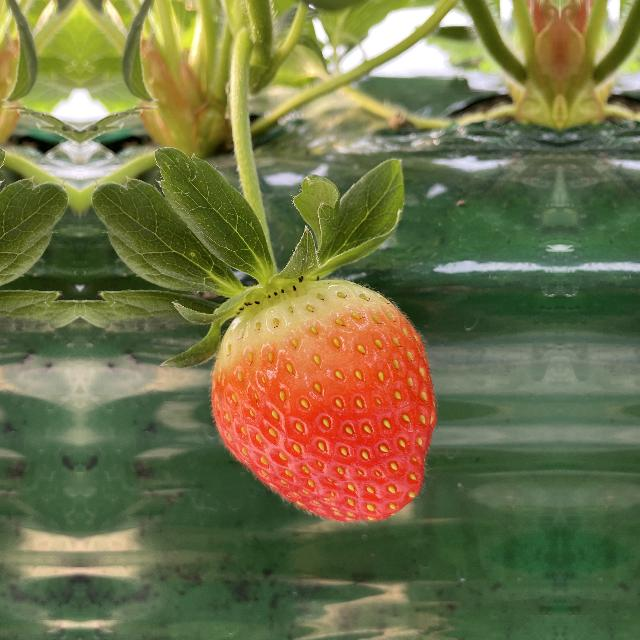Health_100: (205, 262, 441, 528)
